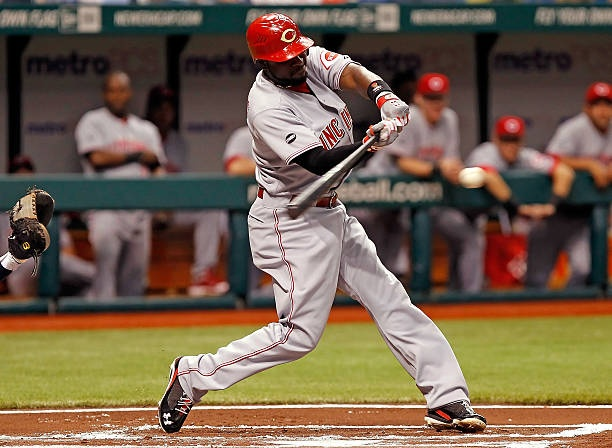bita: (284, 112, 400, 217)
